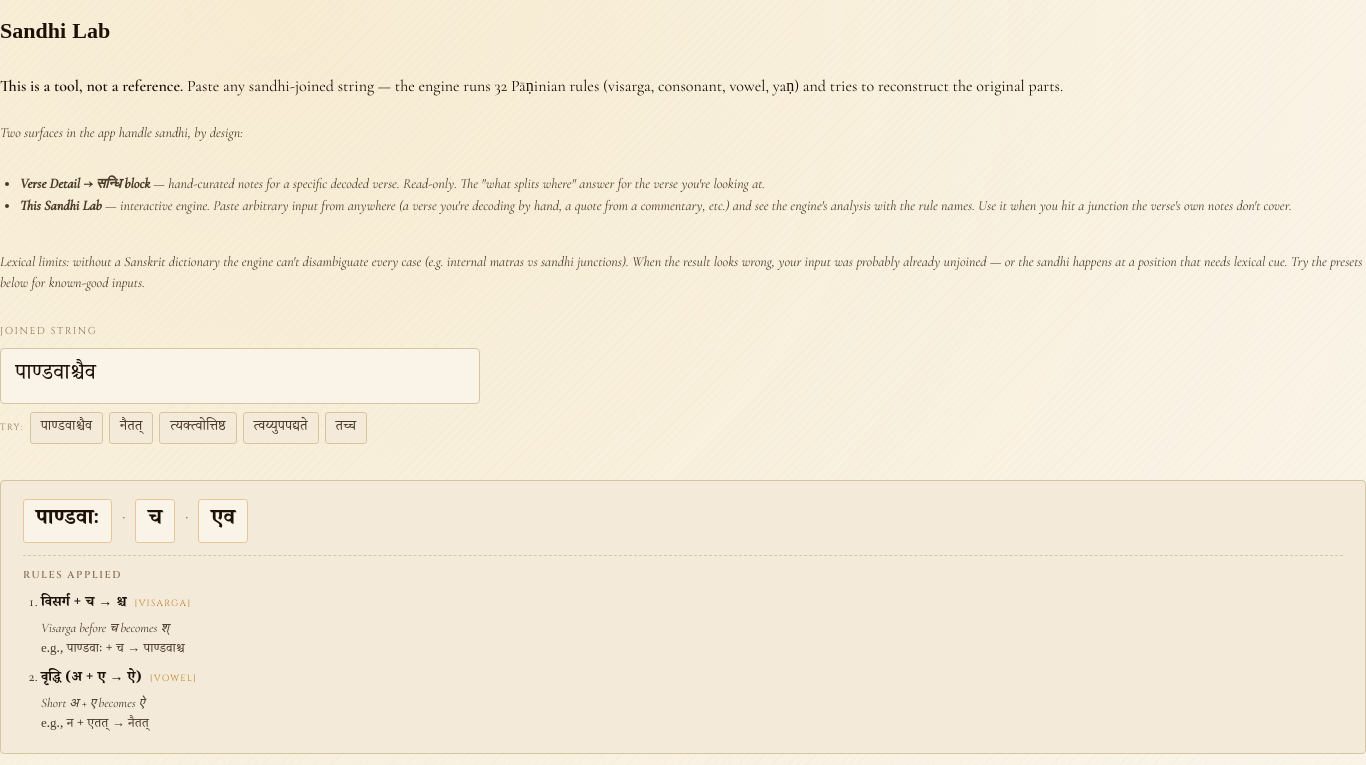
SandhiLab — preset clicks › clicking a preset chip loads it into the input
Click the button with class "sandhi-preset" showing "तच्च": click(346, 428) [325,412,367,444]
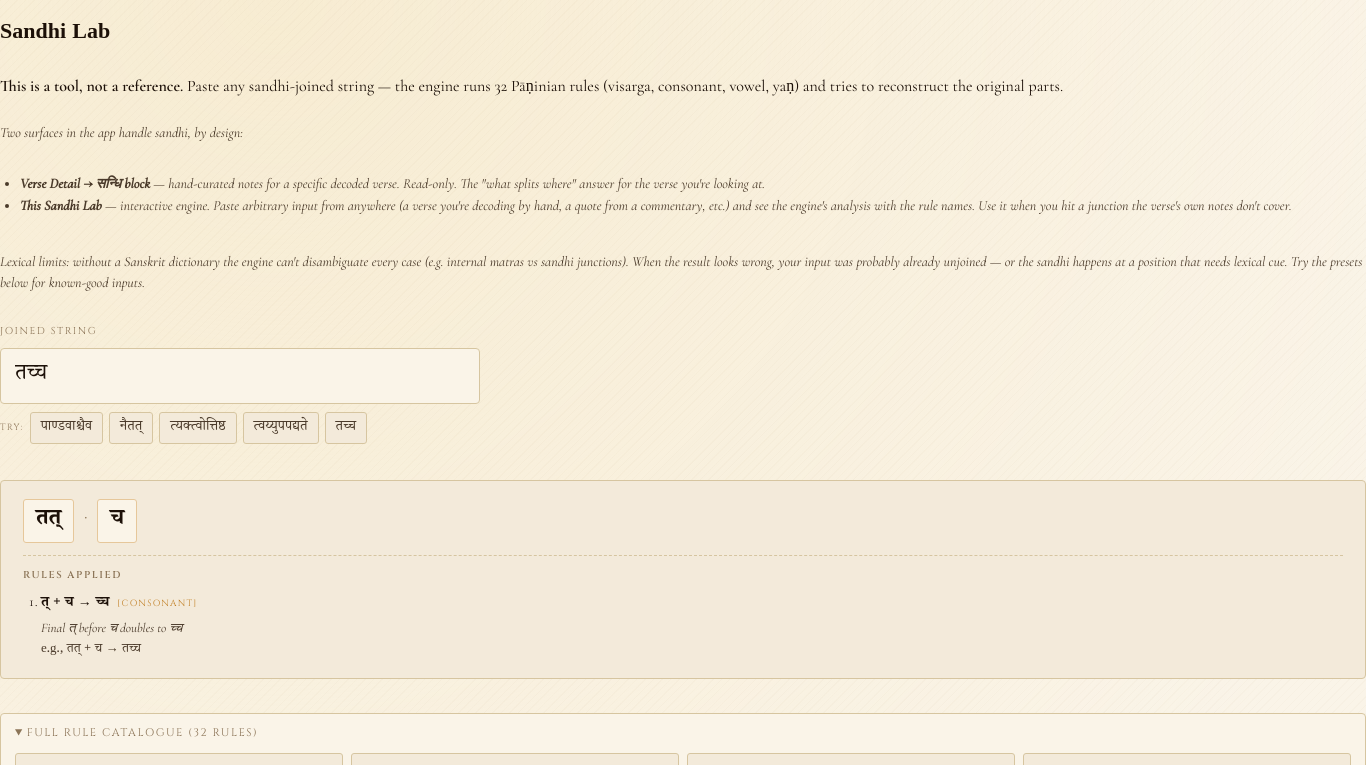
Expected: the field with class "sandhi-input" holds "तच्च", [0,348,480,404]
